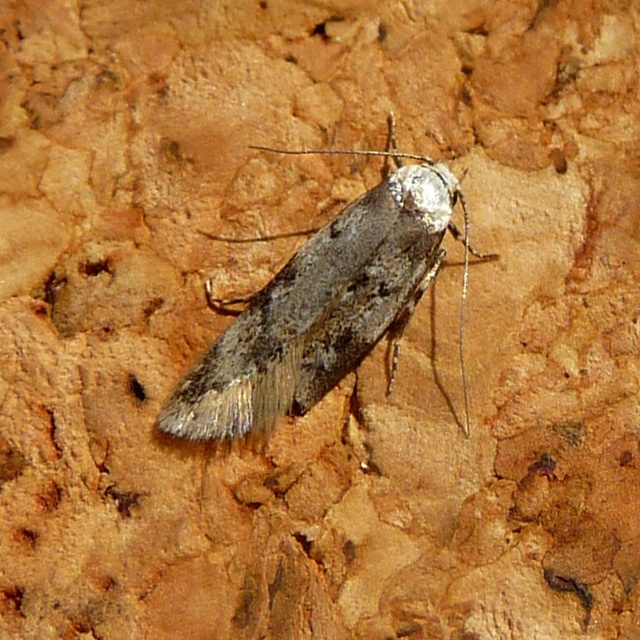Moths and butterflies: (155, 111, 504, 443)
